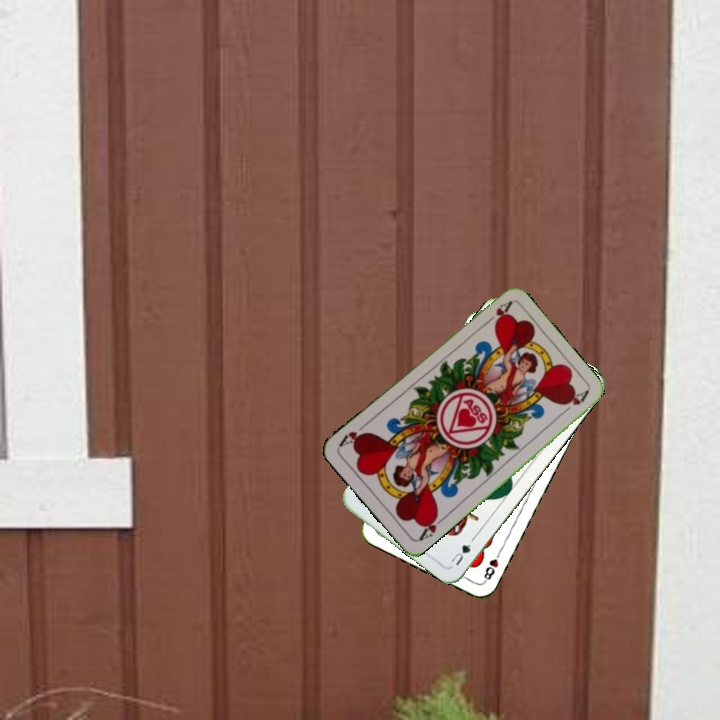GU: (446, 540, 473, 568)
H8: (480, 547, 504, 585)
HA: (414, 509, 448, 543), (480, 298, 514, 328)
